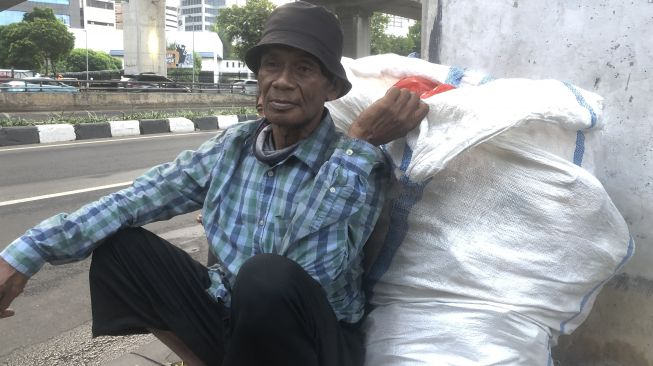pemulung: (3, 1, 637, 366)
